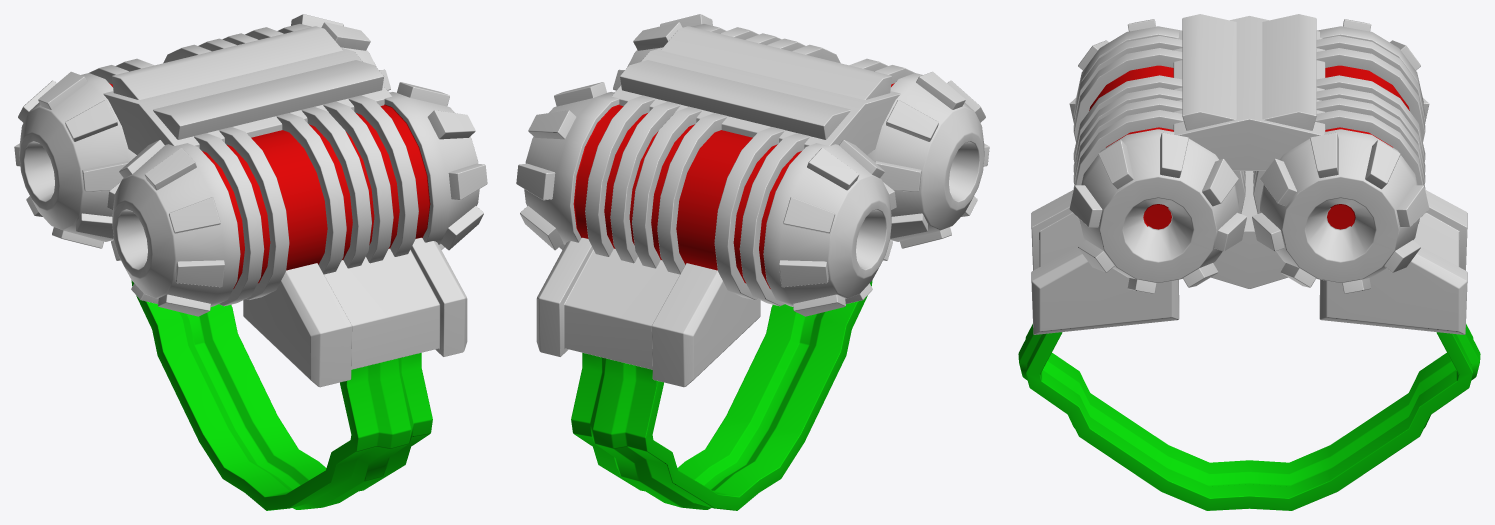
File: SM_SnowMuncherExplosiveKit.fbx
3 renders of one model, left to right at view 1: azimuth 30°, elevation 25°; view 2: azimuth 150°, elevation 25°; view 3: azimuth 270°, elevation 25°, orthographic.
Parts seen in each view (by area): view 1: ExplosiveKit; view 2: ExplosiveKit; view 3: ExplosiveKit.
Part boxes in pixels (box(x1,y1,x2,y2)): ExplosiveKit: box(14, 14, 487, 510); ExplosiveKit: box(516, 14, 989, 510); ExplosiveKit: box(1018, 14, 1480, 510).
Bounding box in the file's own units: 41.75 × 53.2 × 53.44.
